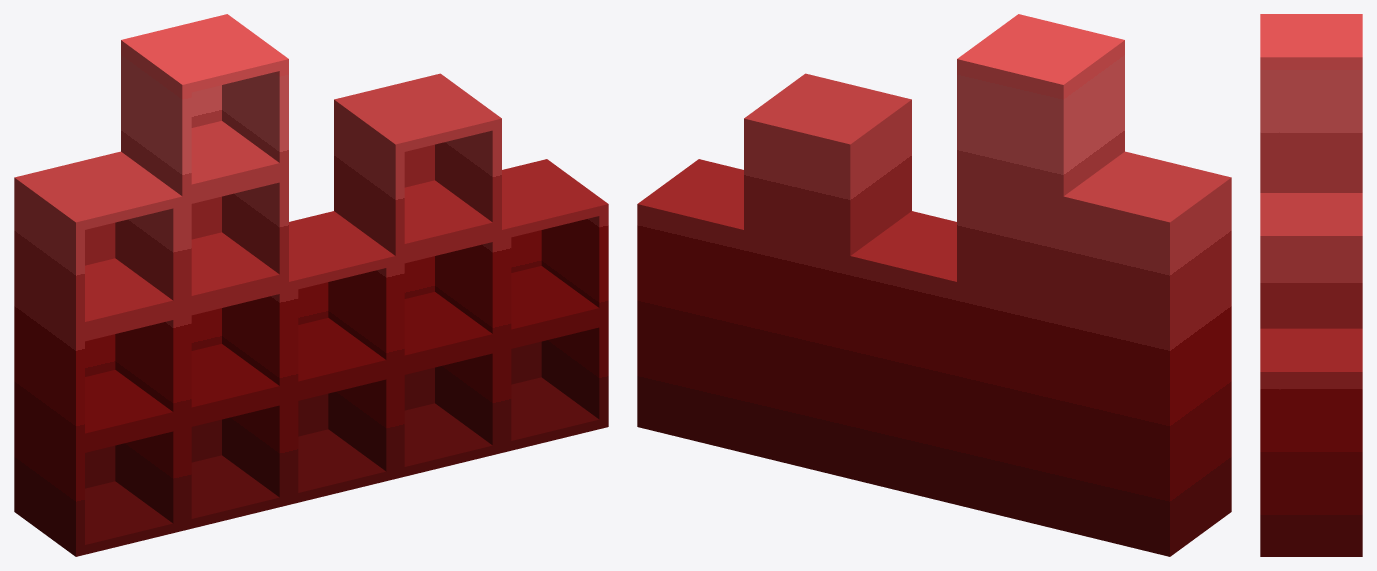
File: shell.fbx
The picture shows the model from 3 angles, left to right: view 1: azimuth 30°, elevation 25°; view 2: azimuth 150°, elevation 25°; view 3: azimuth 270°, elevation 25°; orthographic projection. The views are drawn at different scales.
Visible parts, largest first — view 1: shelf; view 2: shelf; view 3: shelf.
Part boxes in pixels (x1=…): shelf: x1=14, y1=14, x2=608, y2=556; shelf: x1=637, y1=14, x2=1231, y2=556; shelf: x1=1260, y1=14, x2=1362, y2=556.
Bounding box in the file's own units: 1558 × 1246 × 312.
